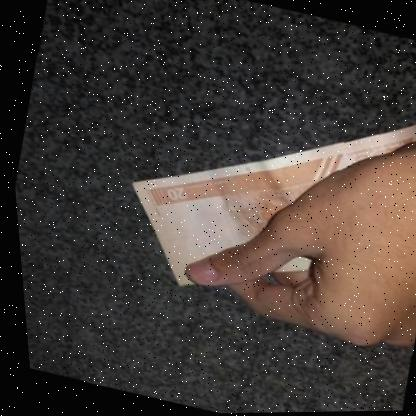vef_back: (97, 60, 416, 340)
